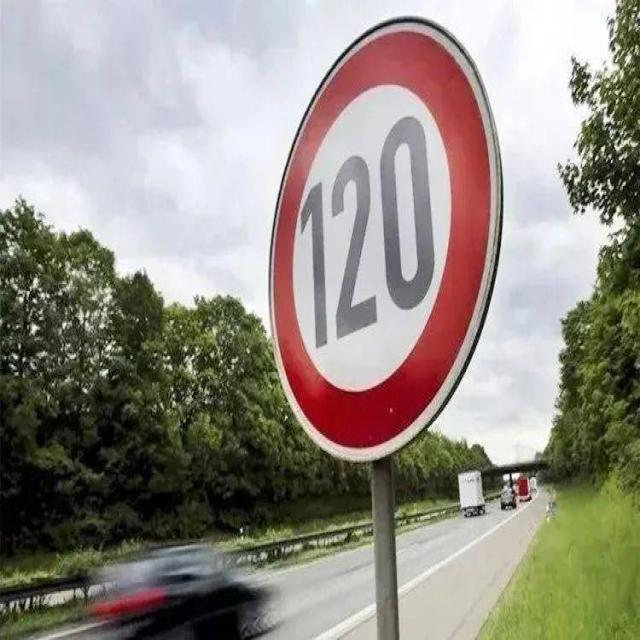speed limit 120: (266, 16, 505, 466)
